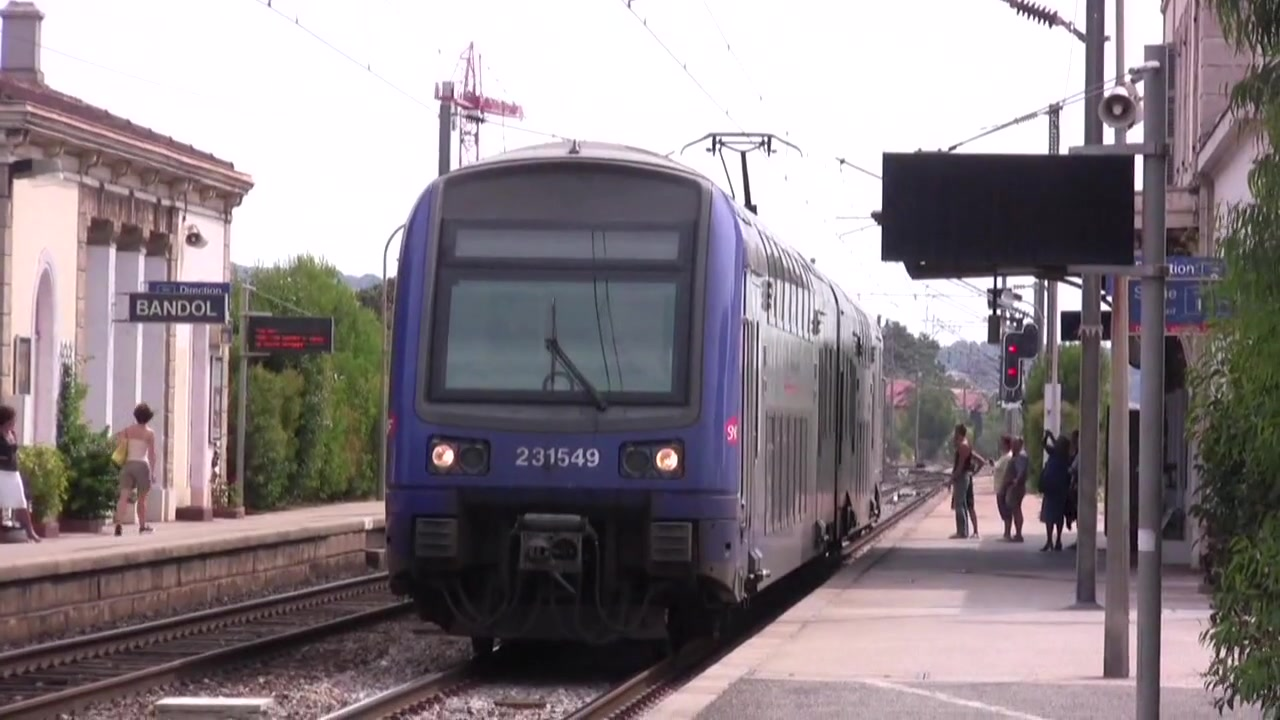train: (378, 138, 890, 656)
